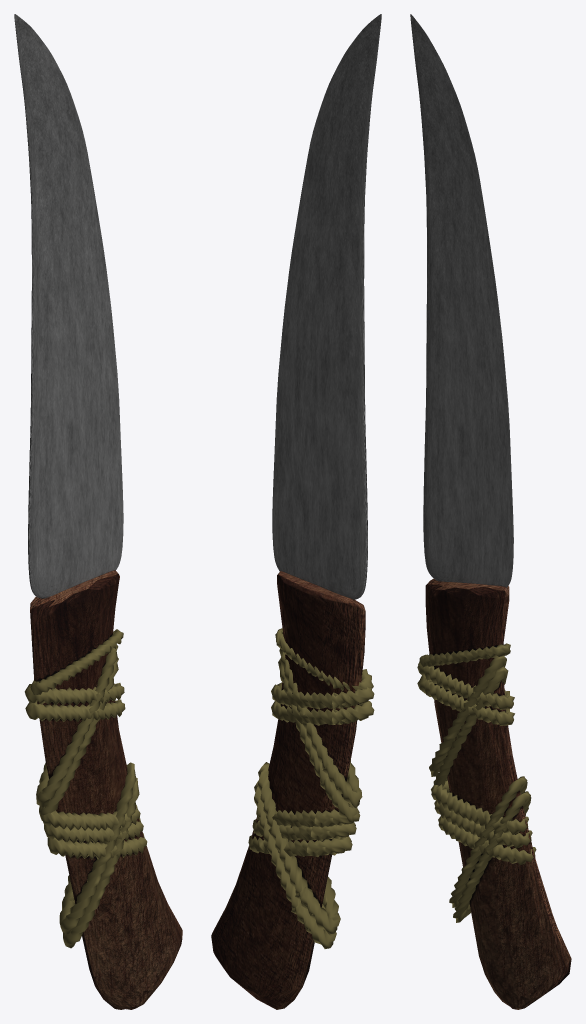
The model's file is atreus_knife_god_of_war.glb.
3 renders of one model, left to right at view 1: azimuth 30°, elevation 25°; view 2: azimuth 150°, elevation 25°; view 3: azimuth 330°, elevation 25°, orthographic. The views are drawn at different scales.
Parts seen in each view (by area): view 1: Blade, Handle LowPoly, Rope; view 2: Blade, Handle LowPoly, Rope; view 3: Blade, Handle LowPoly, Rope.
Part boxes in pixels (x1,y1,x2,y2): Blade: (14,14,123,598); Handle LowPoly: (30,570,182,1009); Rope: (24,629,147,948); Blade: (272,14,381,599); Handle LowPoly: (211,571,365,1009); Rope: (248,628,374,948); Blade: (410,14,513,587); Handle LowPoly: (425,578,571,1009); Rope: (417,643,536,922).
Size of the model in its own units: 0.8649 by 5 by 0.2559.
3 materials, 2 textured.
